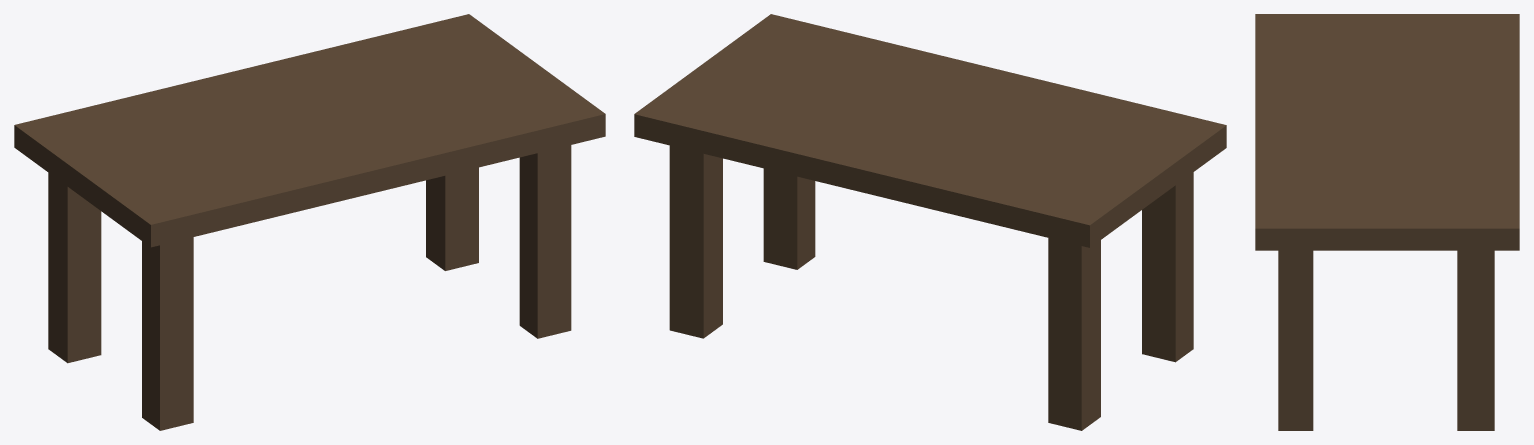
Rendered from tableJ.fbx.
3 renders of one model, left to right at view 1: azimuth 30°, elevation 25°; view 2: azimuth 150°, elevation 25°; view 3: azimuth 270°, elevation 25°, orthographic. The views are drawn at different scales.
Parts seen in each view (by area): view 1: Cube; view 2: Cube; view 3: Cube.
Part boxes in pixels (x1,y1,x2,y2): Cube: [14, 14, 605, 430]; Cube: [634, 14, 1226, 430]; Cube: [1255, 14, 1519, 430].
Bounding box in the file's own units: 507 × 234 × 264.
